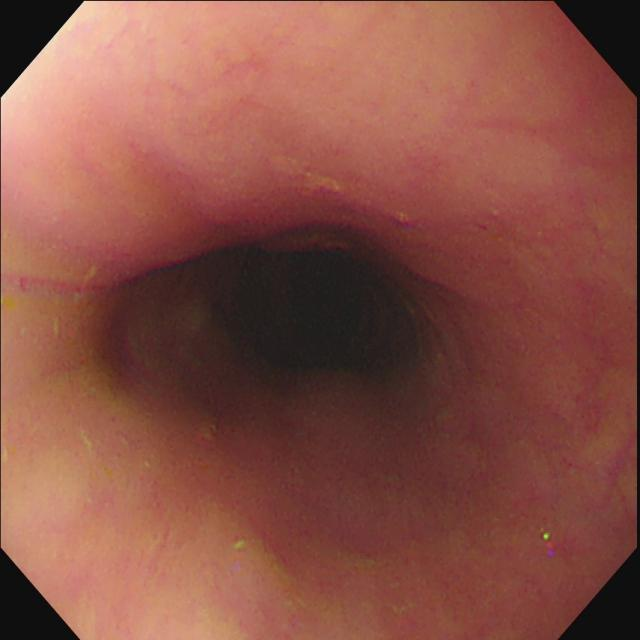E: (255, 256, 372, 357)
